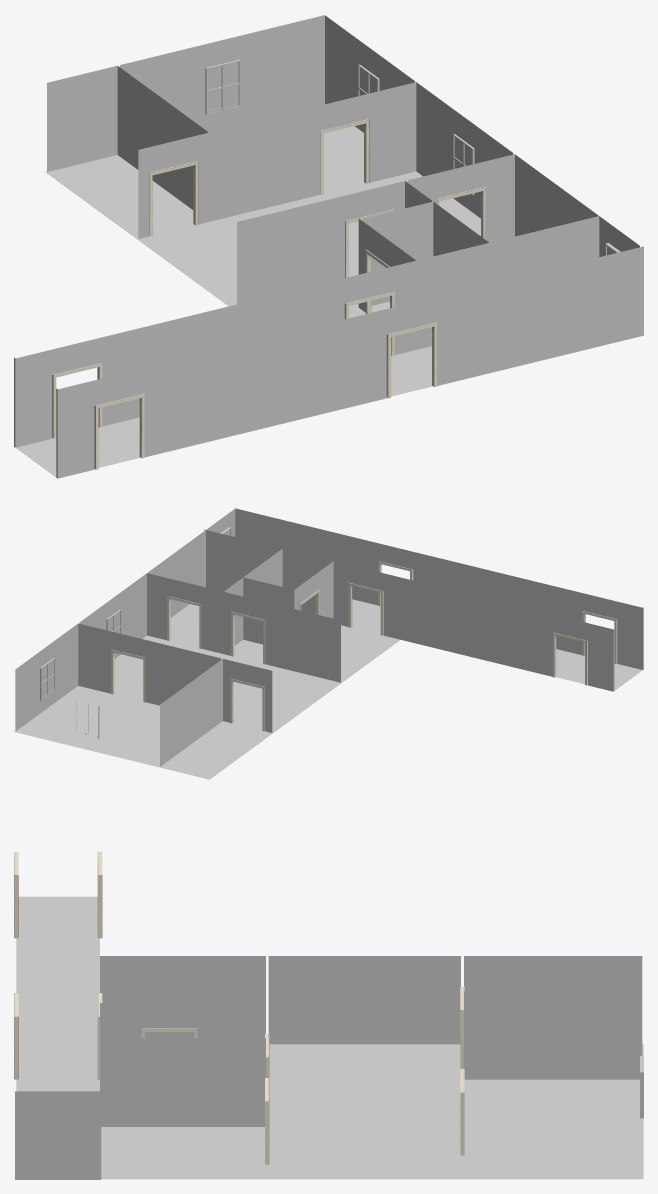
The model's file is apartments.glb.
3 views of the same model, one above another, from view 1: azimuth 30°, elevation 25°; view 2: azimuth 150°, elevation 25°; view 3: azimuth 270°, elevation 25° (orthographic). The views are drawn at different scales.
Visible parts, largest first — view 1: Apartment, Hallway, Window.002, Doorframe.007, Doorframe.008, Doorframe.001, Doorframe.002, Doorframe.009; view 2: Apartment, Hallway, Window.003, Doorframe.006, Doorframe.009, Doorframe.002, Doorframe.001, Doorframe.003, Doorframe.004; view 3: Apartment, Hallway.
Boxes of the visible parts, box(x1,y1,x2,y2) form: Apartment: box(45, 15, 598, 318); Hallway: box(14, 216, 643, 478); Window.002: box(205, 59, 240, 114); Doorframe.007: box(386, 322, 437, 398); Doorframe.008: box(94, 394, 144, 469); Doorframe.001: box(320, 119, 369, 194); Doorframe.002: box(149, 161, 198, 236); Doorframe.009: box(52, 363, 102, 438); Apartment: box(14, 530, 400, 779); Hallway: box(204, 508, 643, 691); Window.003: box(40, 658, 54, 700); Doorframe.006: box(348, 582, 383, 635); Doorframe.009: box(552, 632, 587, 685); Doorframe.002: box(230, 678, 264, 731); Doorframe.001: box(111, 649, 145, 702); Doorframe.003: box(231, 611, 265, 664); Doorframe.004: box(167, 596, 201, 648); Apartment: box(100, 956, 643, 1179); Hallway: box(15, 896, 101, 1179).
Bounding box in the file's own units: 24.05 × 3.5 × 22.59.
Materials: 1 (1 with a texture image).
